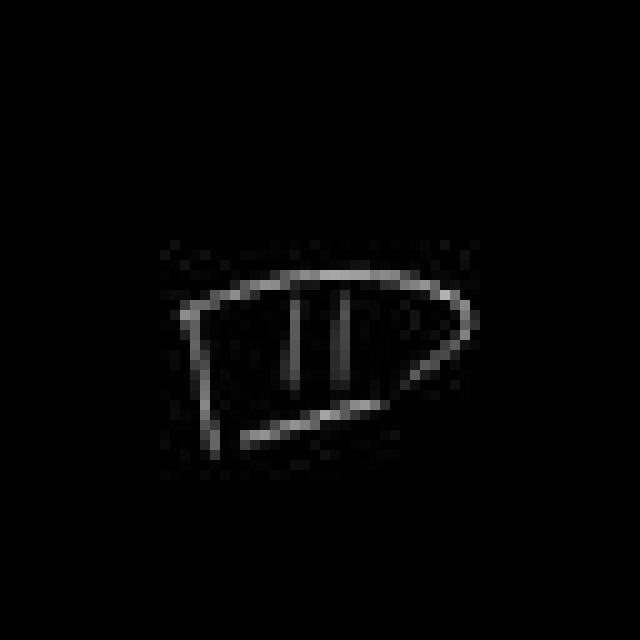4 -four-: (159, 253, 484, 469)
